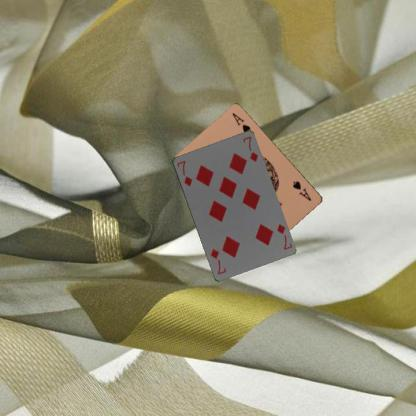7d: (173, 158, 194, 188), (274, 221, 293, 250)
As: (290, 178, 313, 202)
